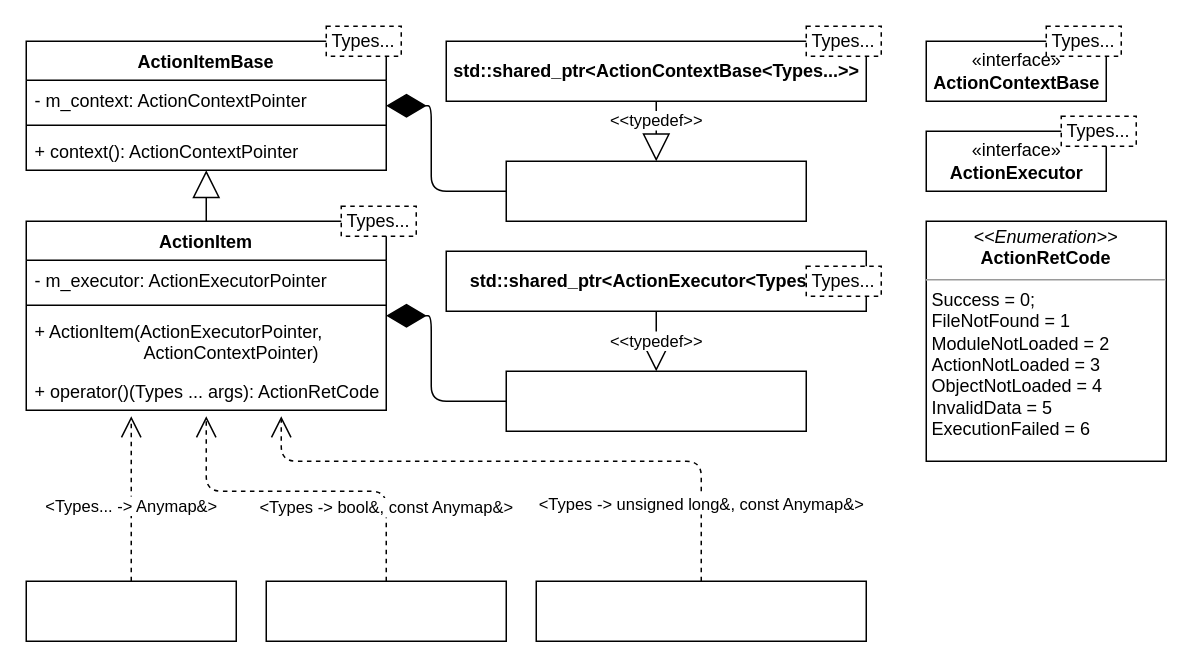
The diagram is 1193 pixels wide and 668 high, and some of its shapes have lost their labels. Each missing label, with the centre of its shape:
"ActionContextPointer" goes at (x=655, y=190).
"ActionExecutorPointer" goes at (x=655, y=400).
"ActionItem <bool&, const Anymap&>" goes at (x=385, y=610).
"ActionItem <unsigned long&, const Anymap&>" goes at (x=700, y=610).
"ActionItem<Anymap&>" goes at (x=130, y=610).
